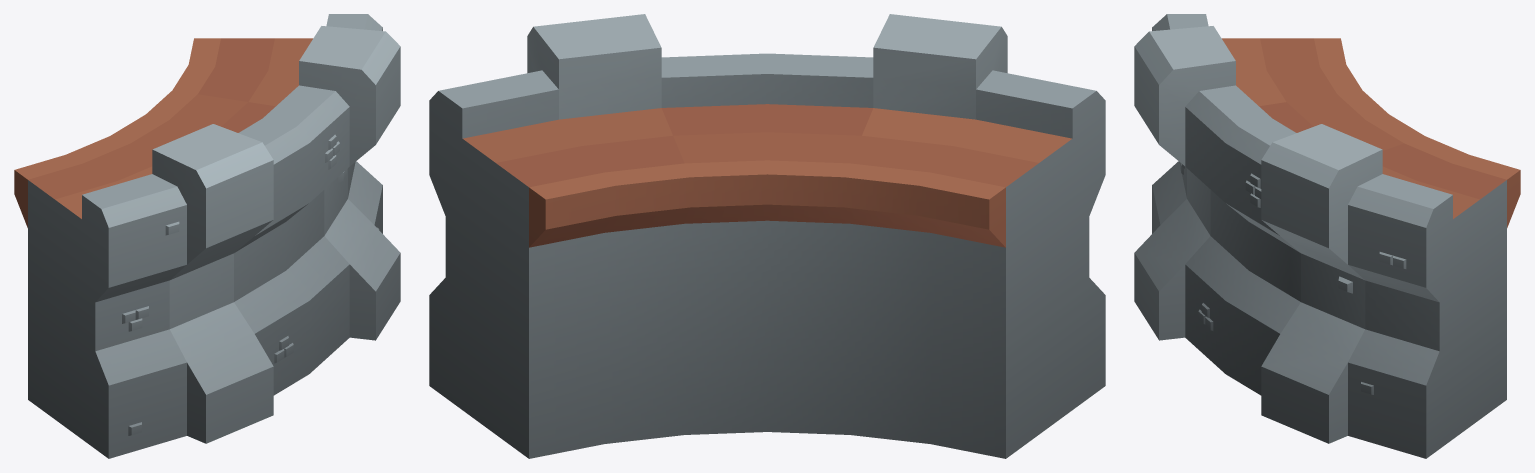
Rendered from wall_corner_A_outside.glb.
The picture shows the model from 3 angles, left to right: view 1: azimuth 30°, elevation 25°; view 2: azimuth 150°, elevation 25°; view 3: azimuth 270°, elevation 25°; orthographic projection. The views are drawn at different scales.
Visible parts, largest first — view 1: wall_corner_A_outside; view 2: wall_corner_A_outside; view 3: wall_corner_A_outside.
Boxes of the visible parts, <box> form: wall_corner_A_outside: <box>14,14,400,458</box>; wall_corner_A_outside: <box>429,14,1105,458</box>; wall_corner_A_outside: <box>1134,14,1520,458</box>.
Bounding box in the file's own units: 1.76 × 1.1 × 1.43.
Materials: 1 (1 with a texture image).
